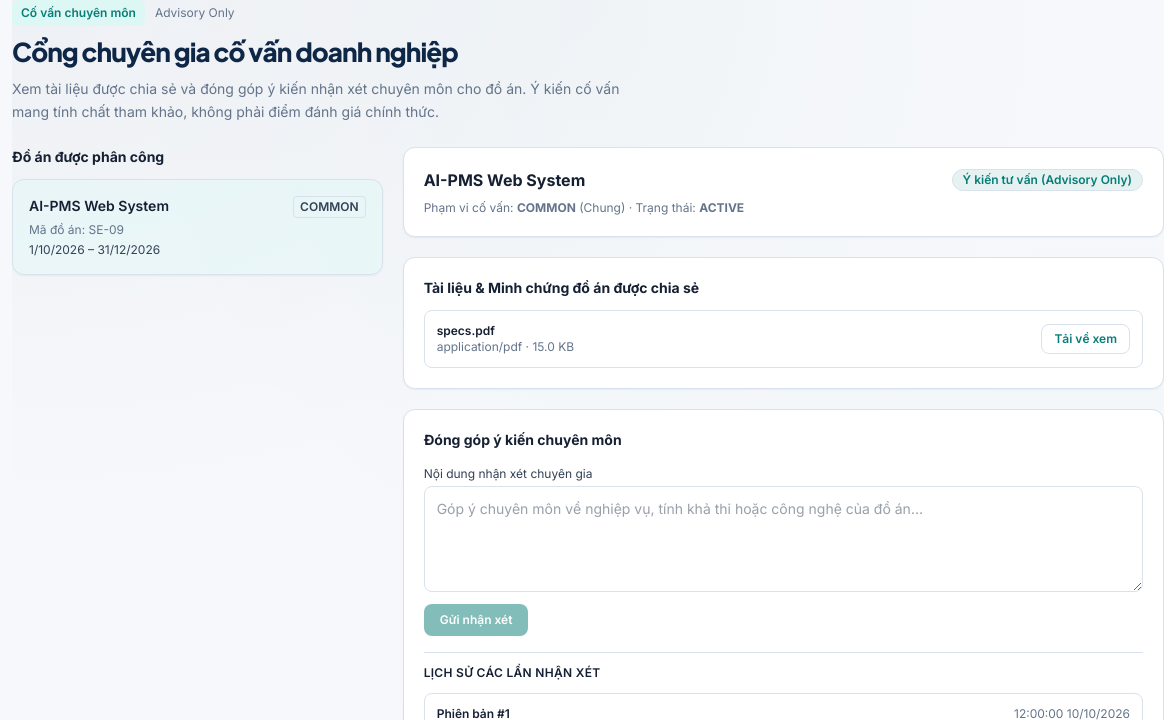
IndustryExpertPortalPage › allows the expert to submit professional advisory feedback
Check: the text "specs.pdf" is shown, box 437,323 -> 495,338
Replace the text in the text box with placeholder "Góp ý chuyên môn" with "Bổ sung thêm tài liệu API swagger." at (783, 539), box 424,486 -> 1143,592
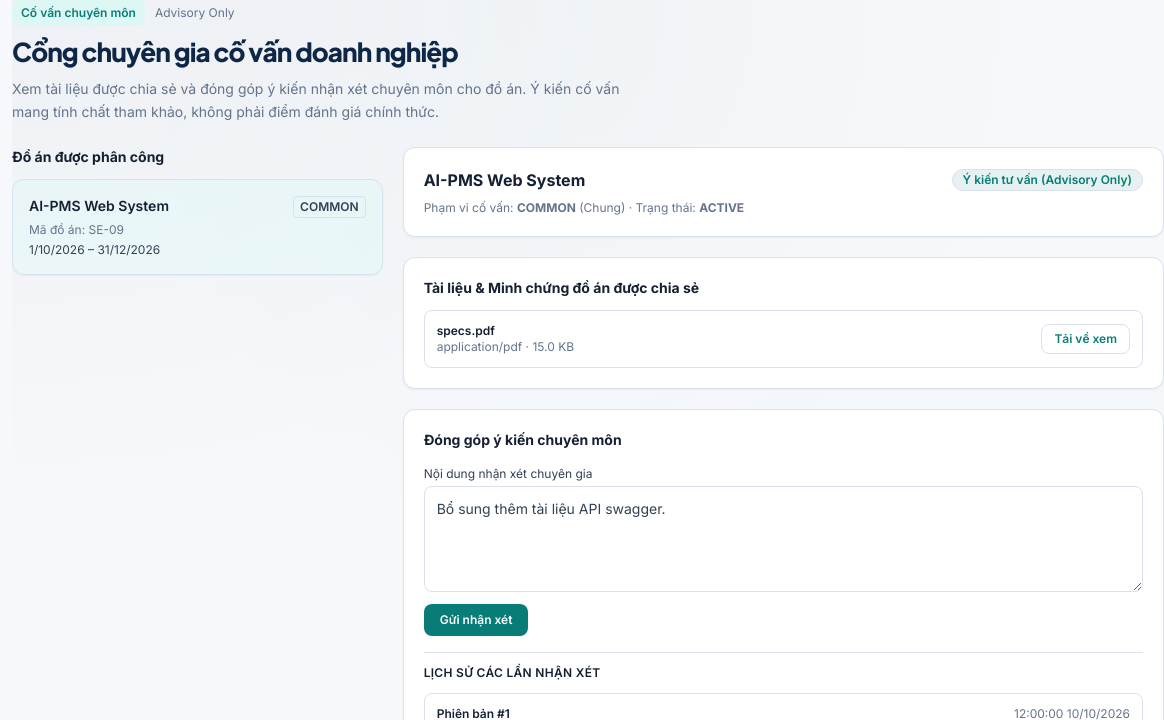
Click the button "Gửi nhận xét" at (476, 620), box 424,604 -> 528,636
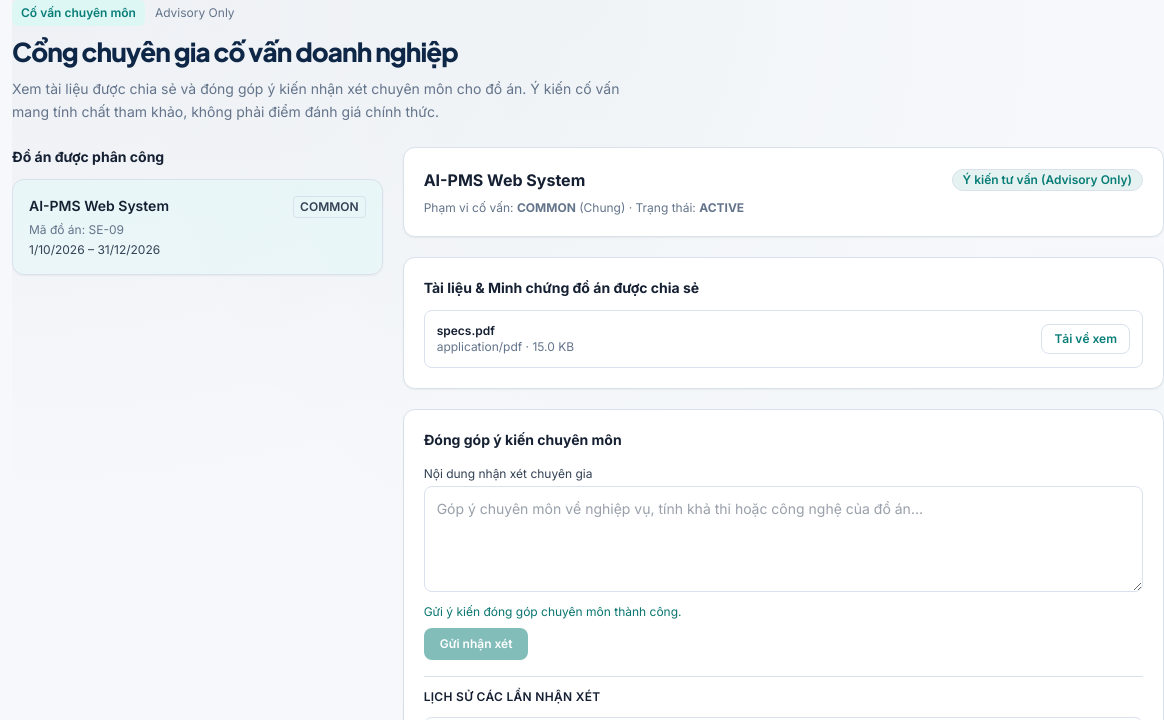
Check: the text "Gửi ý kiến đóng góp chuyên môn thành công." is shown, box 424,604 -> 682,619
